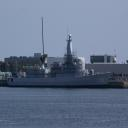Fragata: (8, 33, 114, 90)
